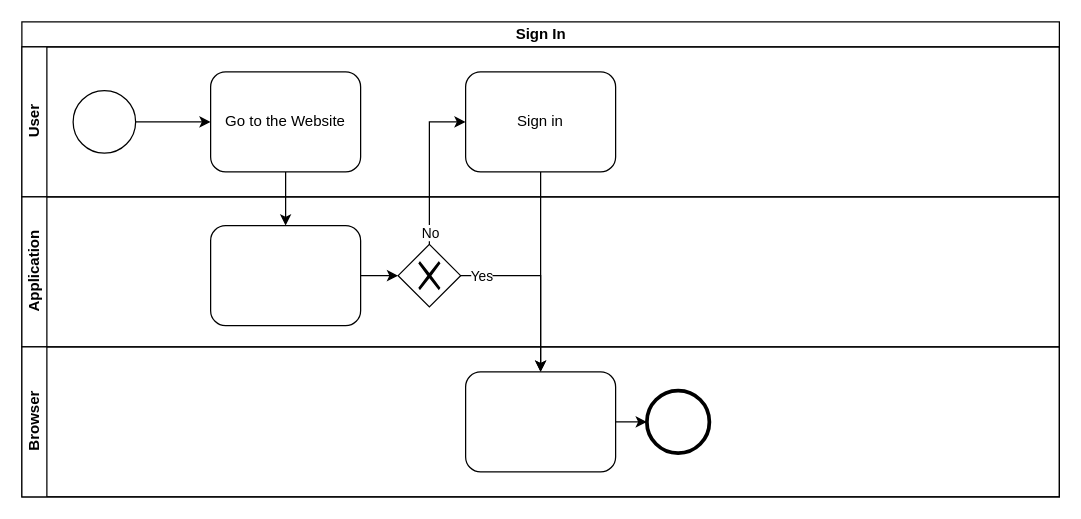
Image size: 1081x519. Some labels were removed from this diagram. Each missing label, with the centre of its shape:
Authenticated?: the point at 429,275
Authentication: the point at 285,275
Continue to requested URI: the point at 540,421
